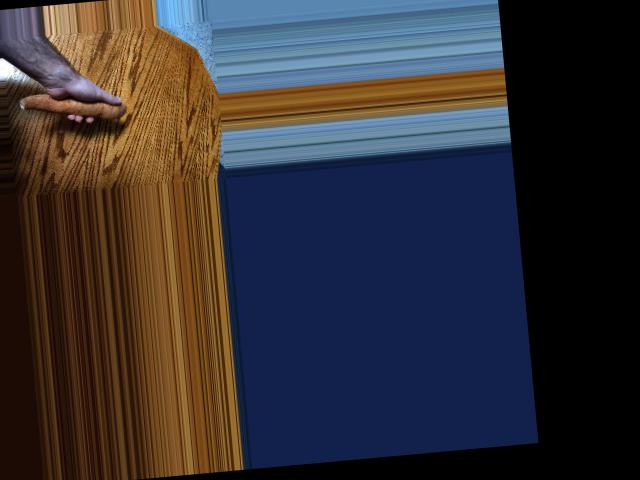sweet_potato: (14, 82, 126, 129)
